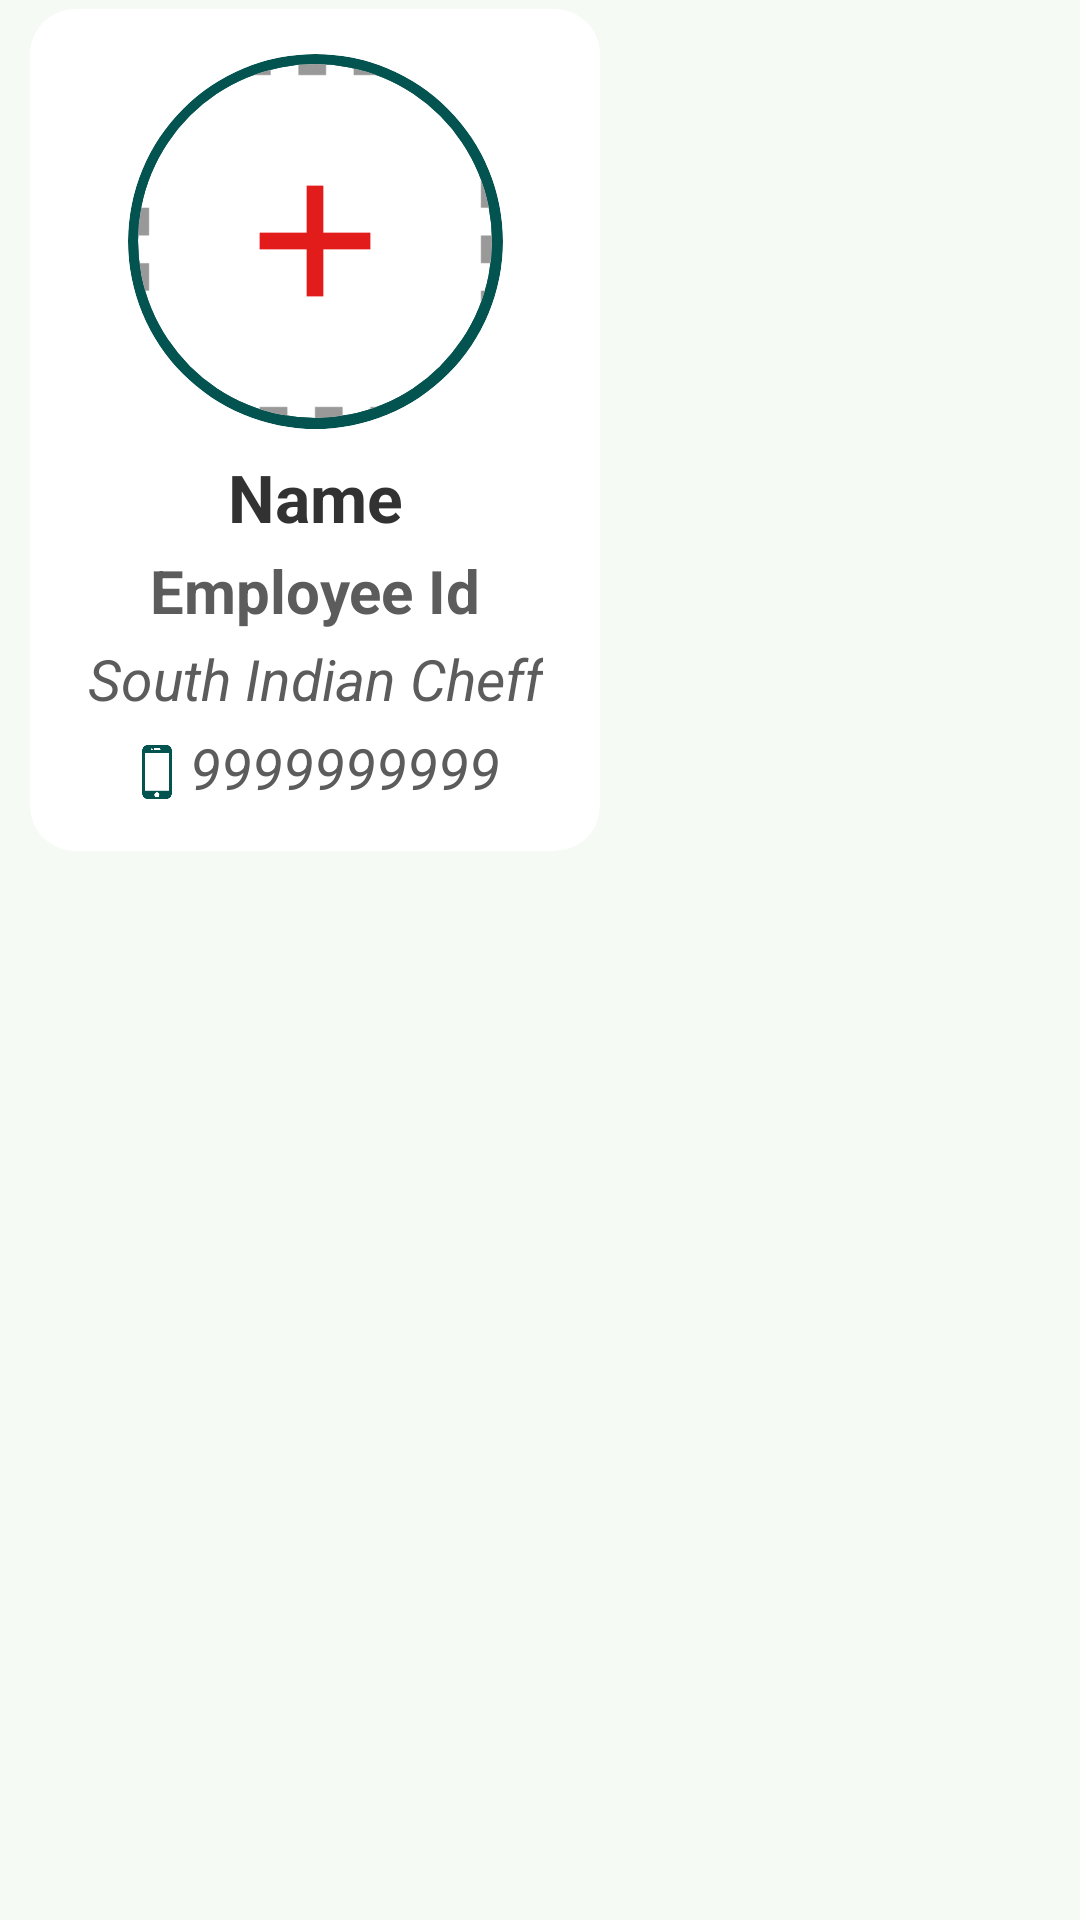

Screen size 1080px×1920px. Icon name, then its box in pixels as Rect(x1, y1, x2, y2):
addimage: Rect(138, 64, 492, 418)
smartphone: Rect(142, 745, 172, 799)
